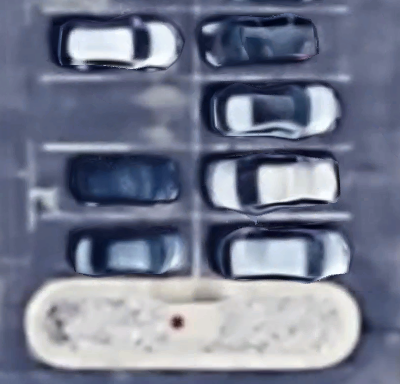Occupied: (196, 78, 349, 149), (42, 148, 197, 217), (42, 9, 196, 78), (195, 149, 351, 217), (196, 10, 349, 79), (41, 216, 197, 278), (196, 217, 351, 279)
Vacant: (41, 78, 196, 148)
